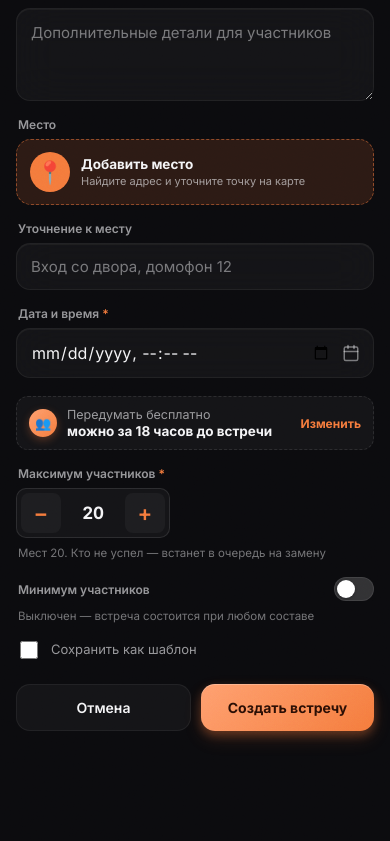
Test: CreateEventPage — открытие по шаблону › галочка «Сохранить как шаблон» раскрывает поле имени
This screenshot has width=390, height=841.
(page scrolled)
Expected: the text "Сохранить как шаблон" is shown, [51,640,197,659]
Expected: the field with placeholder "Разговорный клуб (вторники)" is not shown
Click the checkbox at (29, 650), box [20,641,38,659]
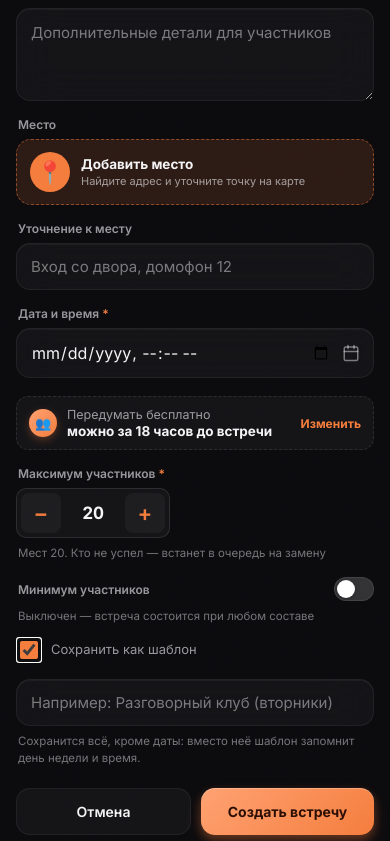
Result: the field with placeholder "Например: Разговорный клуб (вторники)" is shown at [16,679,374,726]
